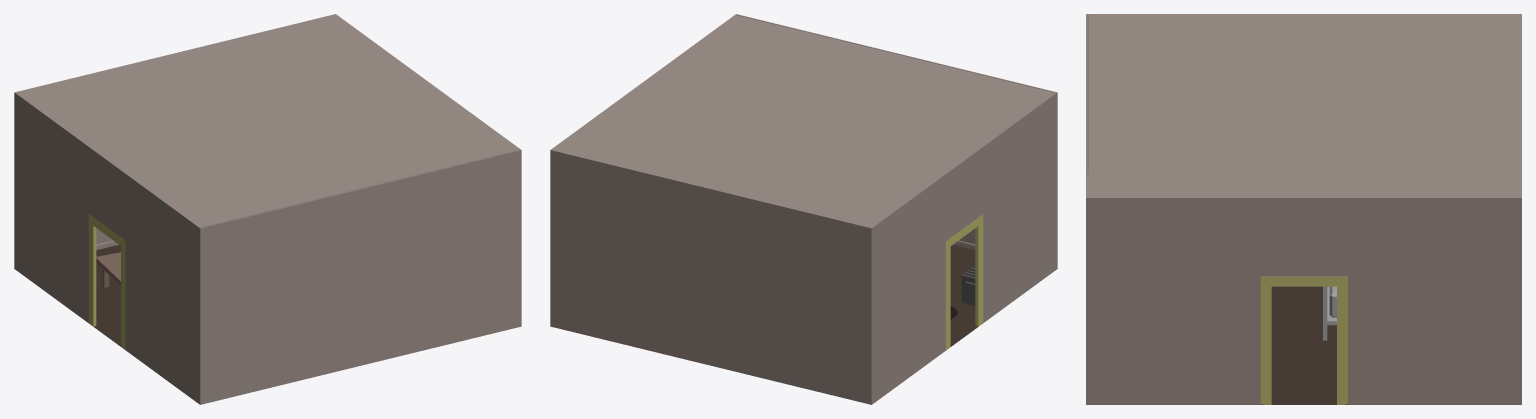
Rendered from Room06_Bedroom.fbx.
3 views of the same model, side by side, from view 1: azimuth 30°, elevation 25°; view 2: azimuth 150°, elevation 25°; view 3: azimuth 270°, elevation 25° (orthographic). The views are drawn at different scales.
Parts seen in each view (by area): view 1: Roof, WallPosZ, WallSlicedPosX, WallPosZ6, WallSlicedPosX10, DoorFramePosX, Floor, pCube120, WallNegZ; view 2: Roof, WallNegZ, WallSlicedPosX, WallNegZ2, WallSlicedPosX10, Floor, DoorFramePosX, WallPosZ, WallSlicedNegX, heater; view 3: Roof, WallSlicedNegX, WallSlicedNegX3, Floor, DoorFrameNegX, WallSlicedPosX, WallPosZ, WallNegZ.
Boxes of the visible parts, x1=… form: Roof: x1=17, y1=15, x2=519, y2=227; WallPosZ: x1=199, y1=150, x2=521, y2=364; WallSlicedPosX: x1=14, y1=92, x2=200, y2=363; WallPosZ6: x1=199, y1=286, x2=521, y2=404; WallSlicedPosX10: x1=14, y1=229, x2=199, y2=403; DoorFramePosX: x1=88, y1=214, x2=125, y2=349; Floor: x1=89, y1=245, x2=120, y2=346; pCube120: x1=96, y1=252, x2=120, y2=287; WallNegZ: x1=14, y1=14, x2=335, y2=228; Roof: x1=552, y1=15, x2=1054, y2=227; WallNegZ: x1=550, y1=150, x2=872, y2=364; WallSlicedPosX: x1=870, y1=92, x2=1056, y2=363; WallNegZ2: x1=550, y1=286, x2=872, y2=404; WallSlicedPosX10: x1=869, y1=229, x2=1056, y2=404; Floor: x1=946, y1=245, x2=982, y2=350; DoorFramePosX: x1=946, y1=214, x2=983, y2=349; WallPosZ: x1=736, y1=14, x2=1057, y2=228; WallSlicedNegX: x1=550, y1=14, x2=736, y2=286; heater: x1=961, y1=266, x2=975, y2=305; Roof: x1=1088, y1=14, x2=1520, y2=197; WallSlicedNegX: x1=1086, y1=197, x2=1521, y2=357; WallSlicedNegX3: x1=1086, y1=357, x2=1521, y2=404; Floor: x1=1260, y1=286, x2=1347, y2=404; DoorFrameNegX: x1=1260, y1=276, x2=1347, y2=404; WallSlicedPosX: x1=1087, y1=14, x2=1520, y2=174; WallPosZ: x1=1086, y1=14, x2=1087, y2=357; WallNegZ: x1=1520, y1=14, x2=1521, y2=357.
Size of the model in its own units: 800 by 420 by 801.
